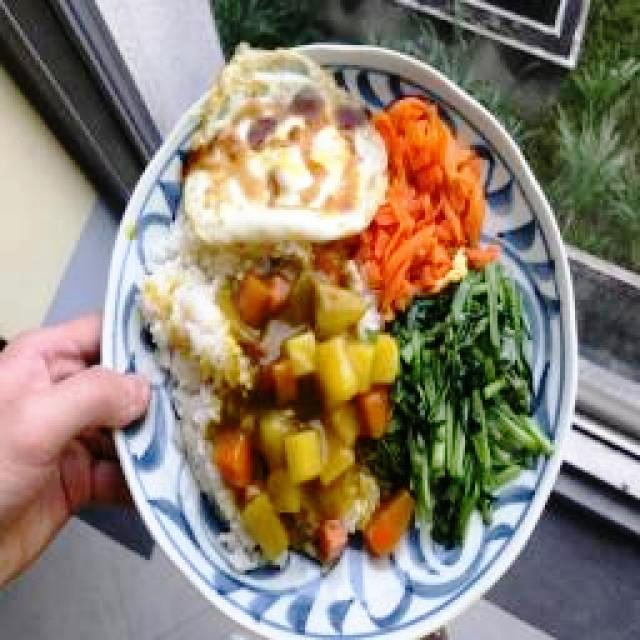carrot_eggs: (356, 94, 500, 321)
curry: (226, 248, 381, 574)
fried_eggs: (174, 52, 390, 239)
rice: (142, 255, 221, 418)
water_spinach: (373, 259, 554, 552)
